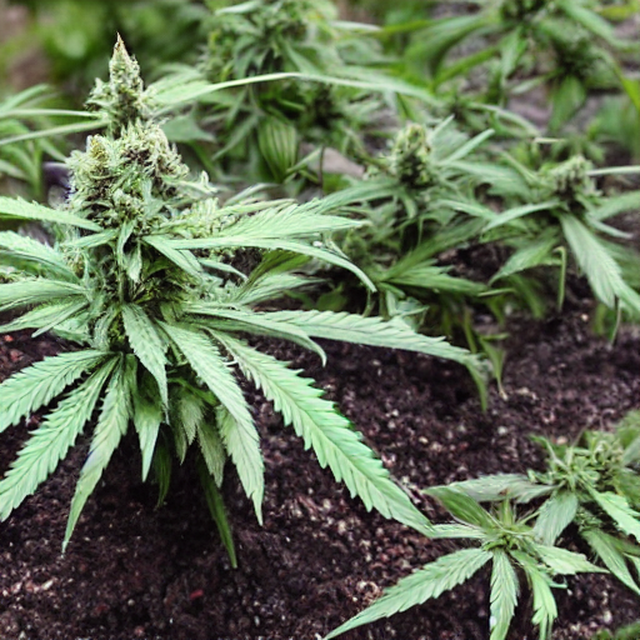Marijuana Plant: (0, 38, 618, 638)
